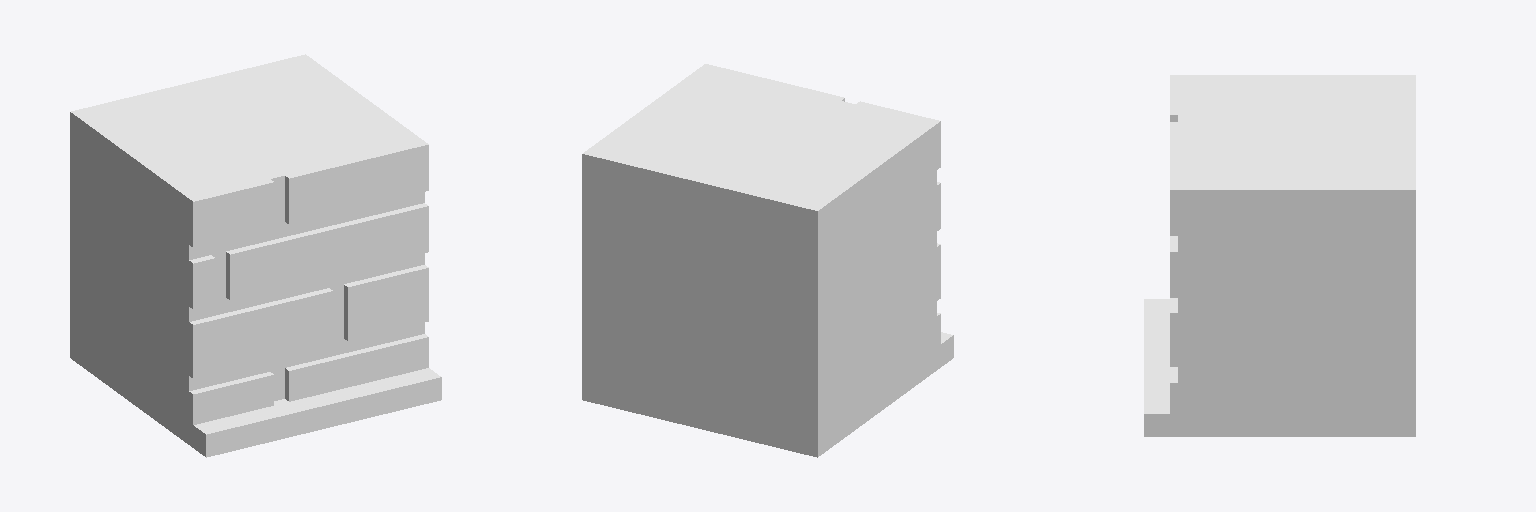
The model's file is stone_bricks-1.obj.
3 views of the same model, side by side, from view 1: azimuth 30°, elevation 25°; view 2: azimuth 150°, elevation 25°; view 3: azimuth 270°, elevation 25° (orthographic).
Parts seen in each view (by area): view 1: object 1; view 2: object 1; view 3: object 1.
Part boxes in pixels (x1,y1,x2,y2): object 1: (70, 54, 441, 457); object 1: (582, 64, 953, 457); object 1: (1144, 75, 1415, 436).
Size of the model in its own units: 3.2 by 3.2 by 3.2.